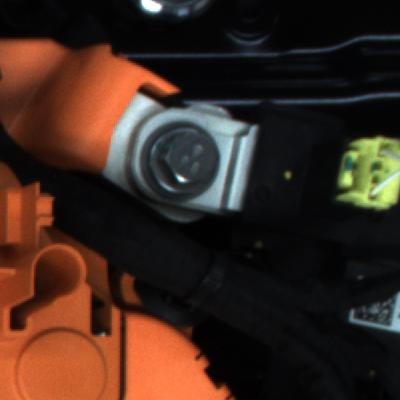nut_b: (140, 121, 226, 207)
